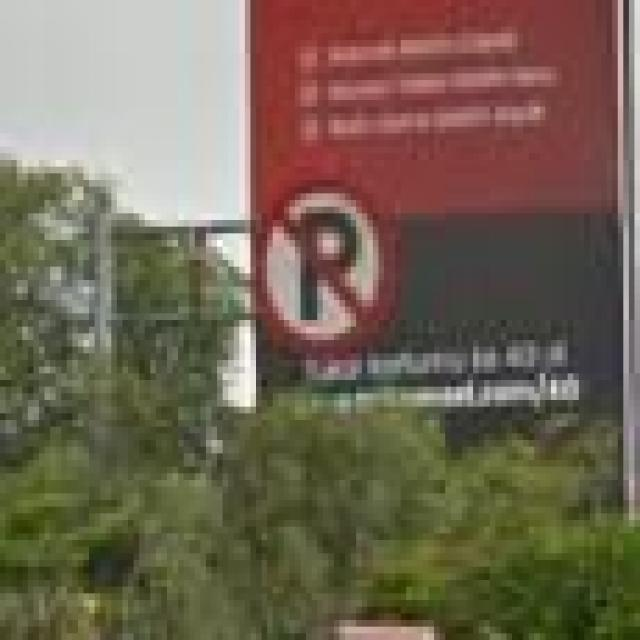traffic sign: (256, 174, 395, 354)
